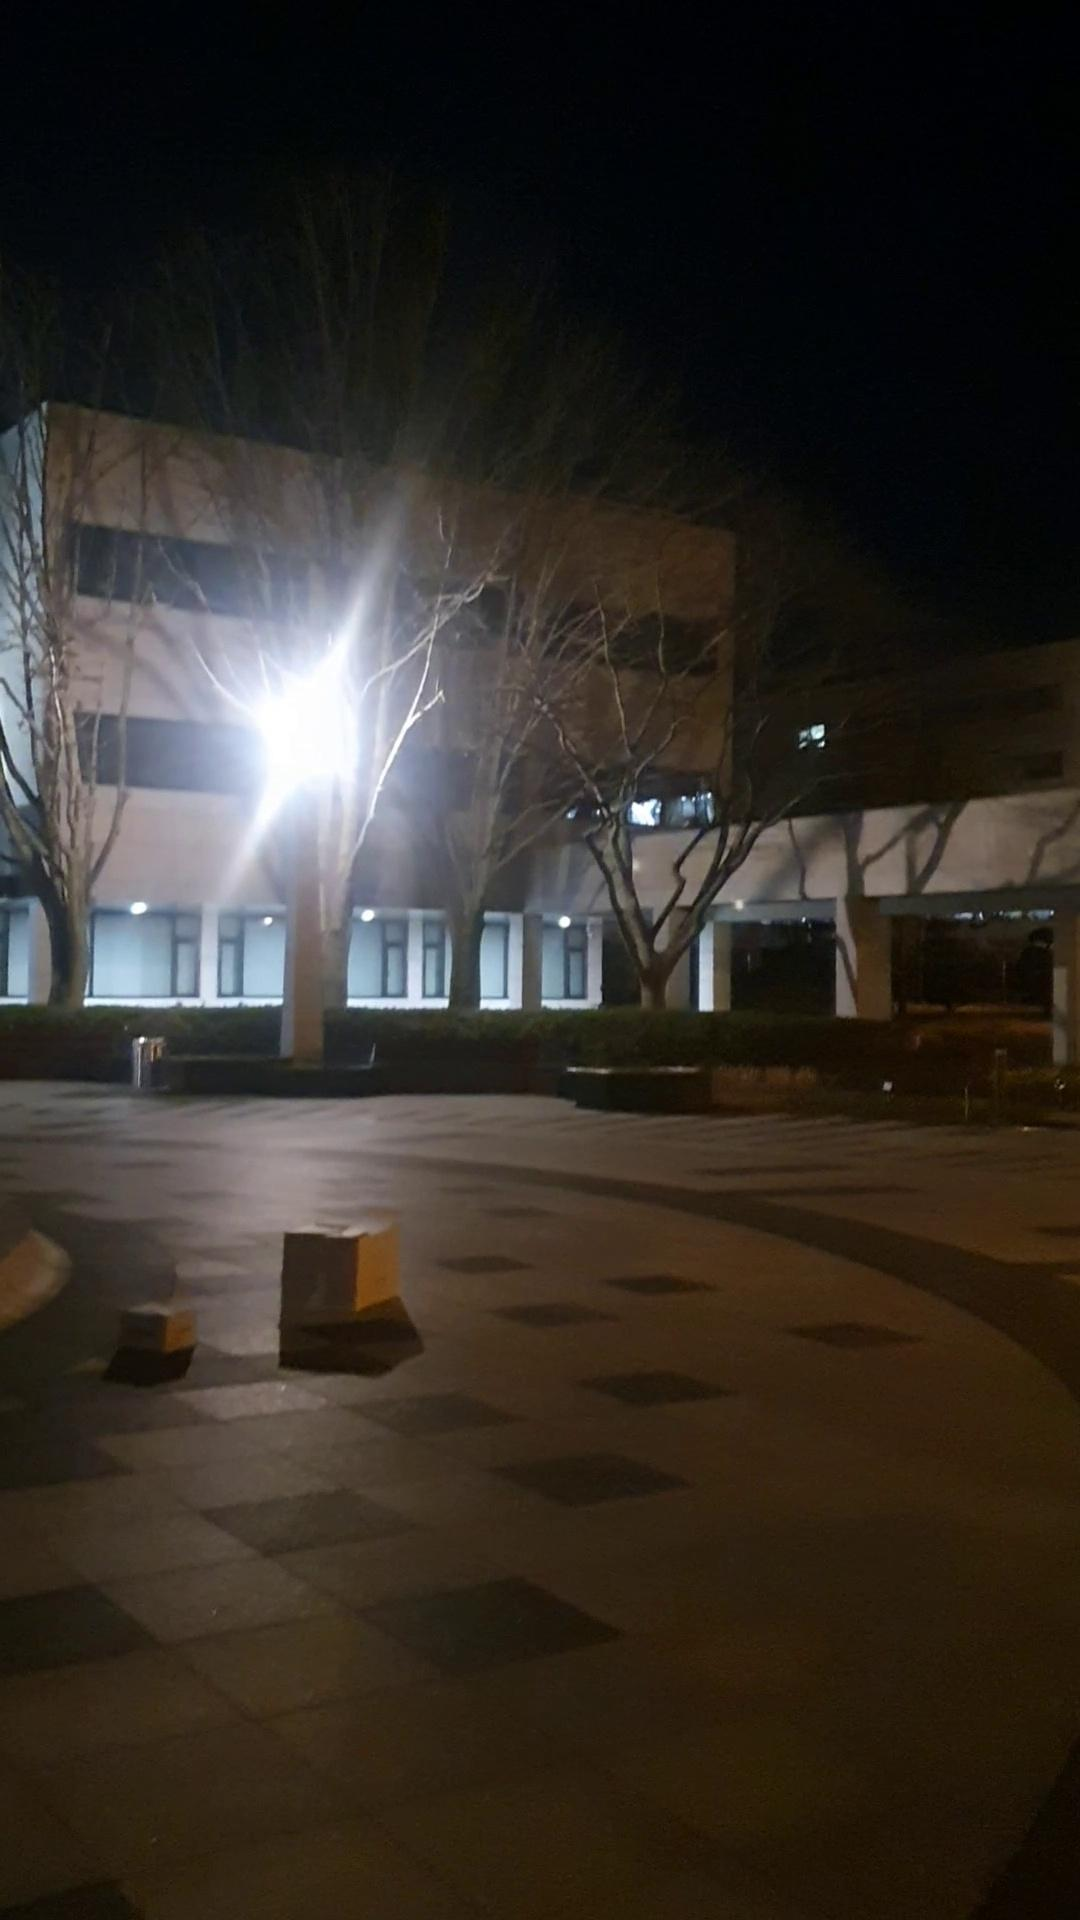Box: (276, 1215, 398, 1332), (102, 1305, 203, 1365)
